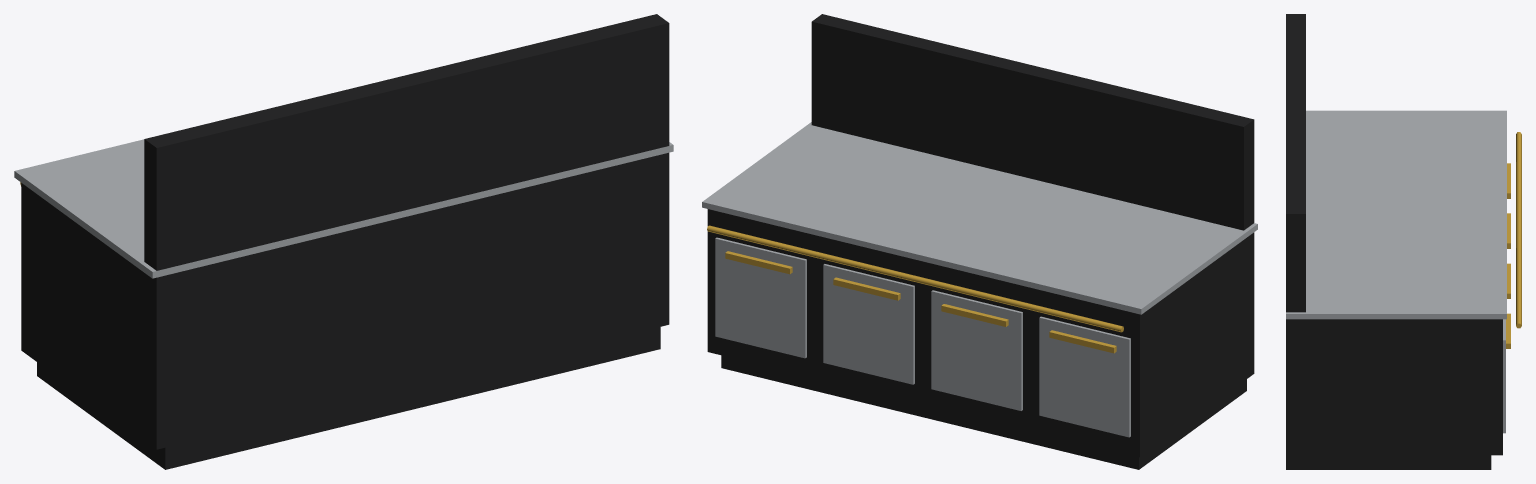
Rendered from parametric-range-2nd.glb.
3 views of the same model, side by side, from view 1: azimuth 30°, elevation 25°; view 2: azimuth 150°, elevation 25°; view 3: azimuth 270°, elevation 25° (orthographic). The views are drawn at different scales.
Parts seen in each view (by area): view 1: parametric-range-2nd; view 2: parametric-range-2nd; view 3: parametric-range-2nd.
Part boxes in pixels (left/top/right/bottom): parametric-range-2nd: left=14, top=14, right=673, bottom=469; parametric-range-2nd: left=702, top=14, right=1257, bottom=469; parametric-range-2nd: left=1286, top=14, right=1521, bottom=469.
Size of the model in its own units: 2.44 by 1.45 by 1.19.
